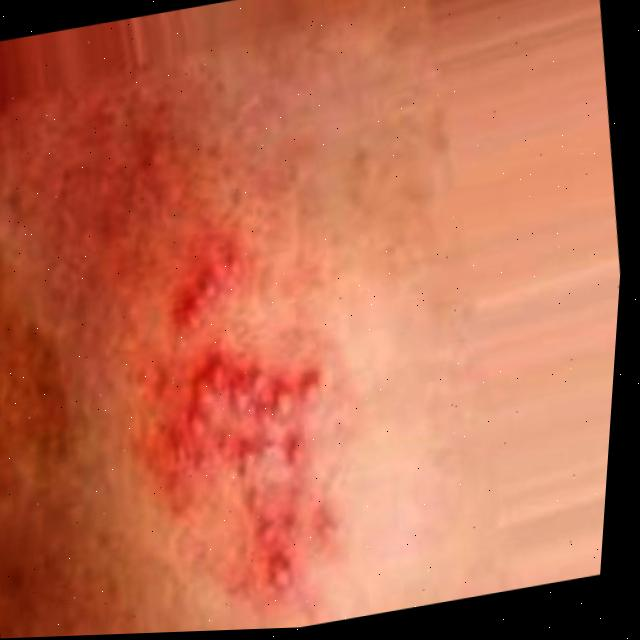Shingles: (137, 226, 380, 620)
